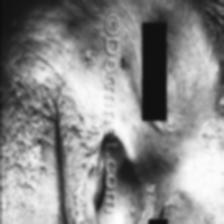Unclassified: (20, 100, 48, 150), (79, 43, 95, 71)
